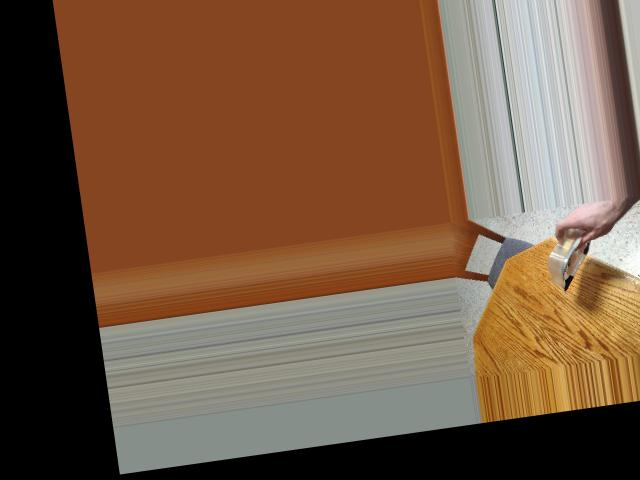cheese: (534, 215, 617, 288)
